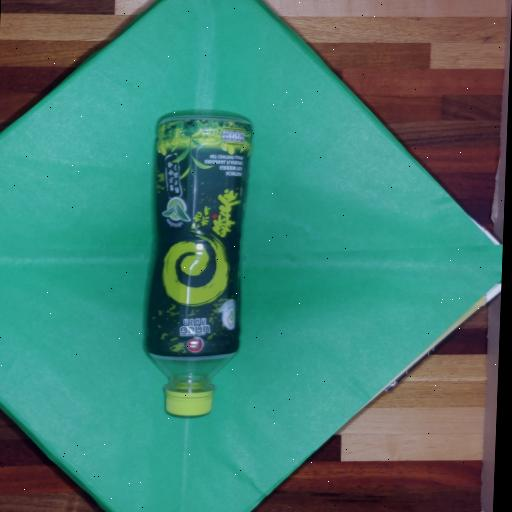bottle: (146, 116, 251, 415)
